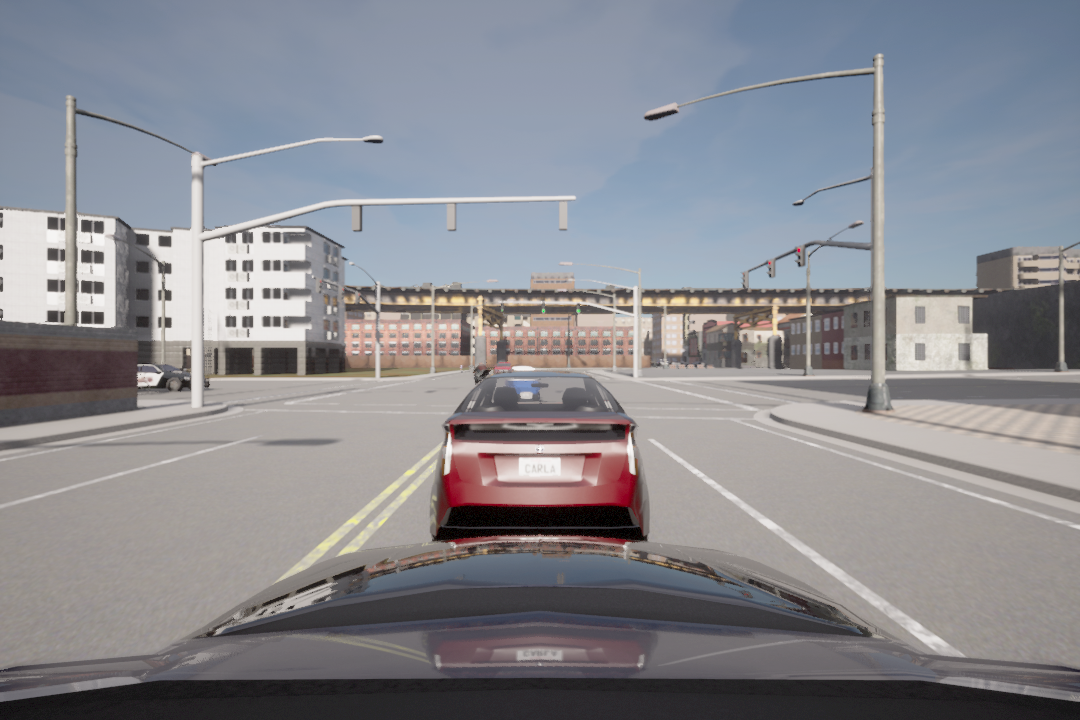TrafficLight: (737, 268, 751, 291), (793, 241, 804, 269), (763, 258, 777, 280)
